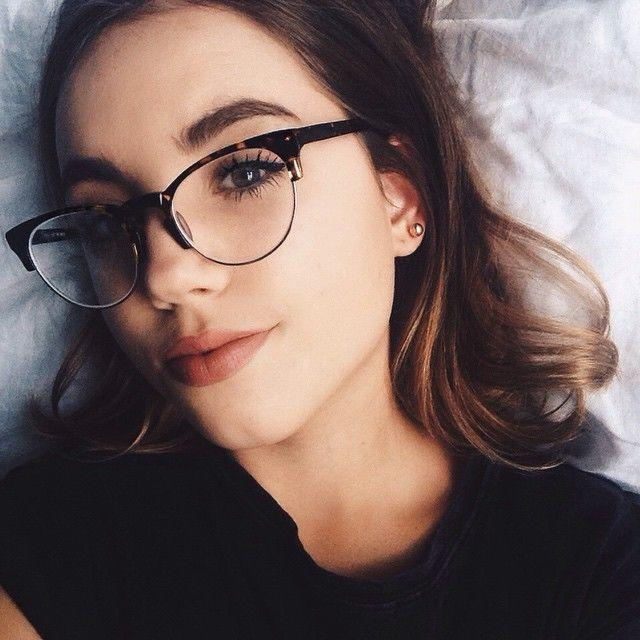Glasses: (0, 114, 369, 316)
